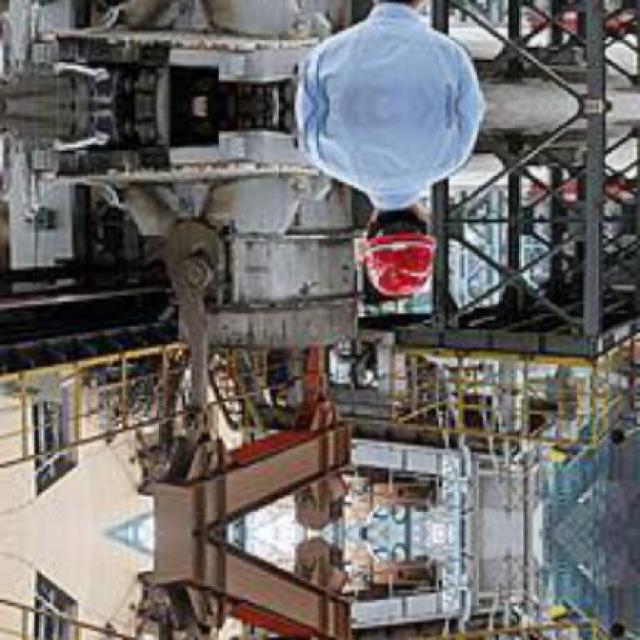con casco: (340, 225, 436, 336)
